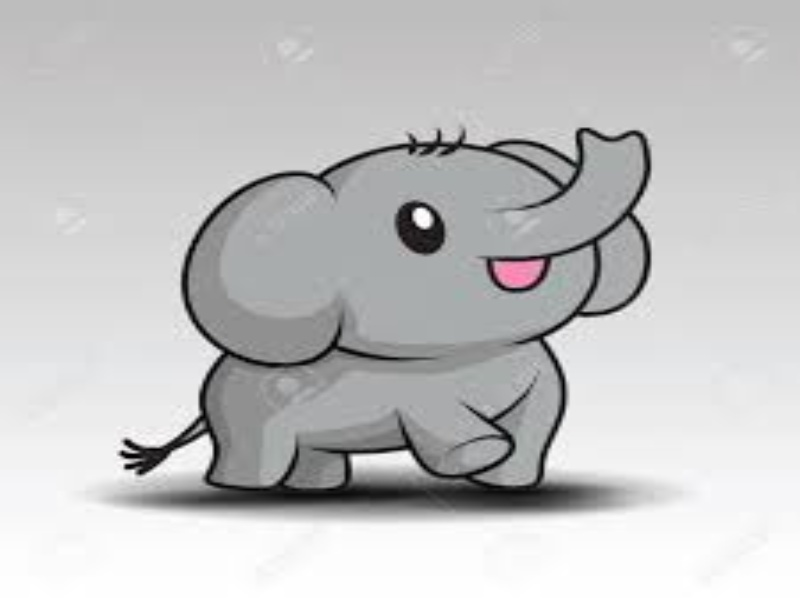elephant: (186, 134, 699, 524)
